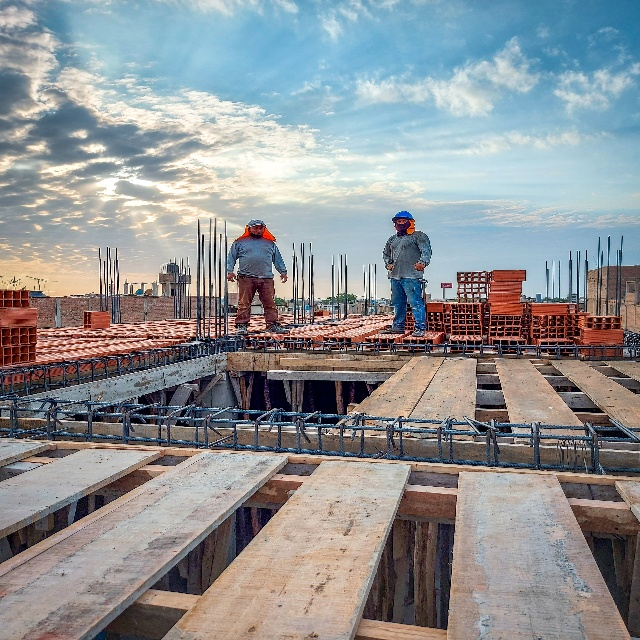Sin_guantes: (411, 261, 425, 272), (227, 273, 237, 283), (279, 273, 287, 284), (387, 264, 393, 269)
